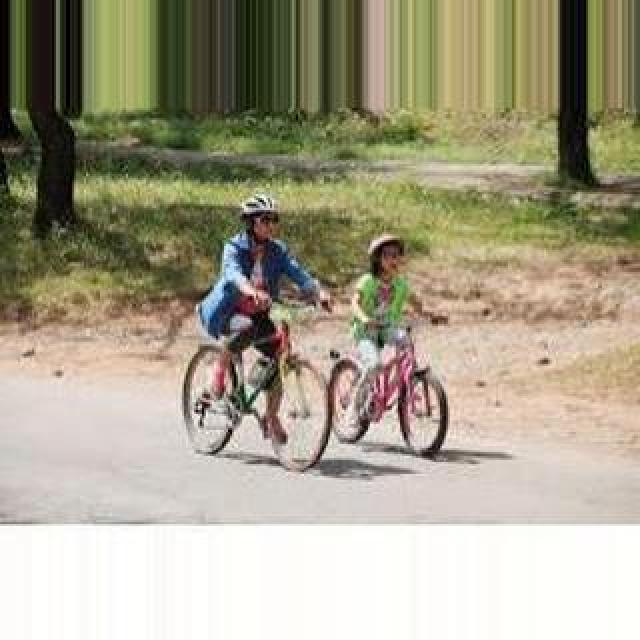MC-Bike: (194, 194, 324, 432), (340, 234, 446, 440)
Person: (181, 306, 333, 472), (326, 318, 452, 460)
